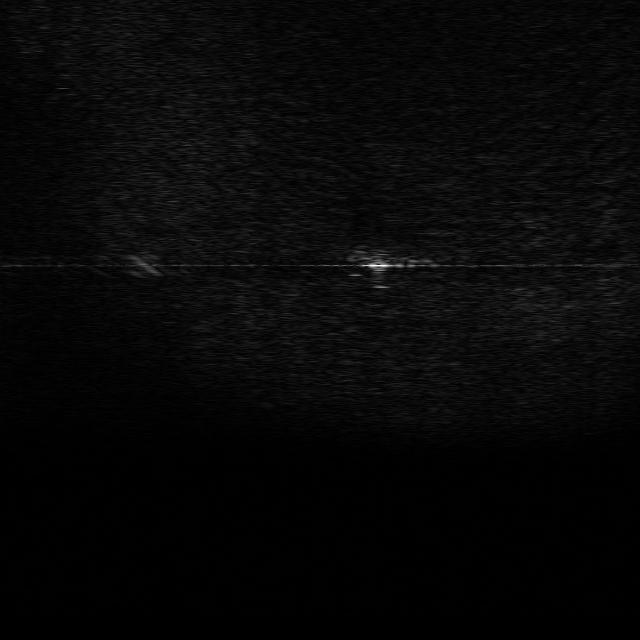plane: (343, 247, 428, 276)
